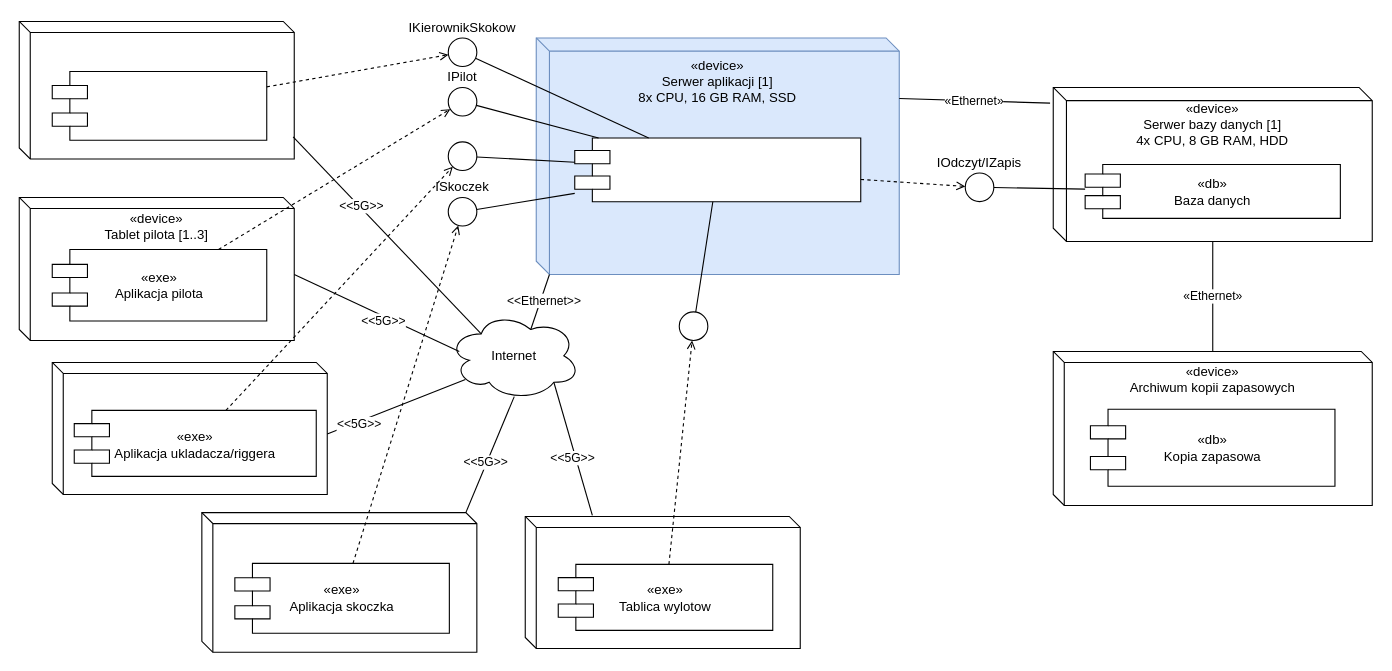
This 1392x671 diagram has some shape labels left out. Here are the shapes that lost their labels. From the top down, the box of each, then its label:
(18, 20, 294, 159): «device» Komputer kierownika[1..2]
(51, 70, 267, 140): «exe» Aplikacja kierownictwa
(447, 141, 477, 170): IUkladaczRigger
(574, 137, 861, 202): «exe» Serwer aplikacji
(678, 311, 708, 340): ISystemWyswietlania
(51, 361, 327, 494): «device» Smartfon ukladacza/riggera [1..5]
(201, 512, 477, 652): «device» Smartfon skoczka [1..20]
(524, 515, 800, 648): «device» Telewizor w hangarze [1..2]
